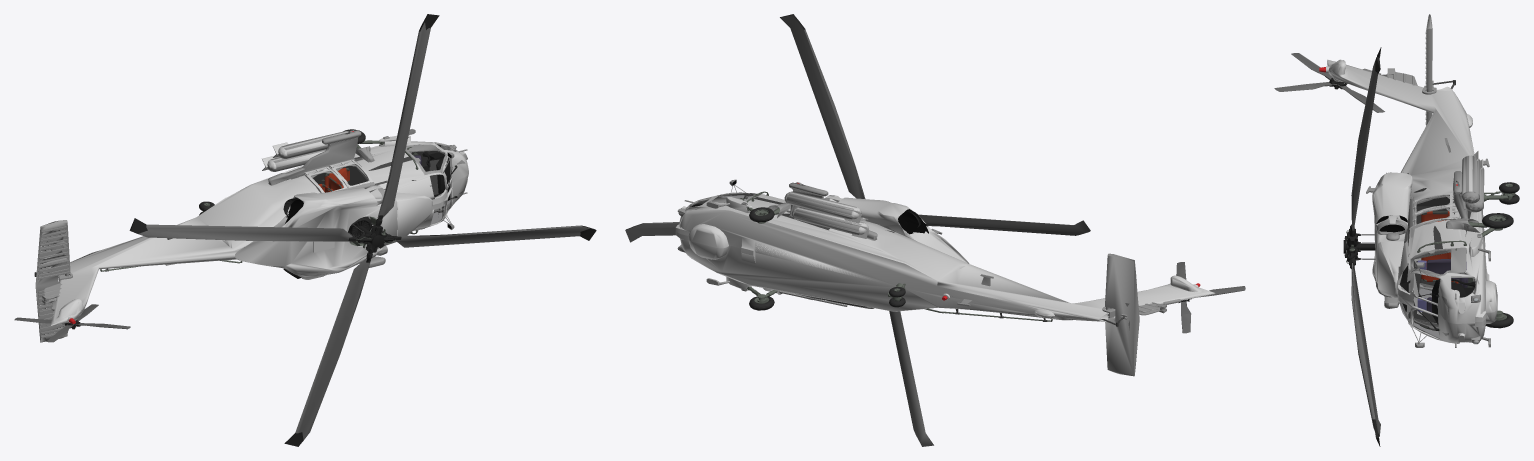
3 renders of one model, left to right at view 1: azimuth 30°, elevation 25°; view 2: azimuth 150°, elevation 25°; view 3: azimuth 270°, elevation 25°, orthographic. The views are drawn at different scales.
Visible parts, largest first — view 1: Seahawk; view 2: Seahawk; view 3: Seahawk.
Part boxes in pixels (x1,y1,x2,y2): Seahawk: [14, 14, 596, 446]; Seahawk: [625, 14, 1245, 446]; Seahawk: [1274, 14, 1519, 446].
Bounding box in the file's own units: 11.89 × 7.78 × 3.84.
